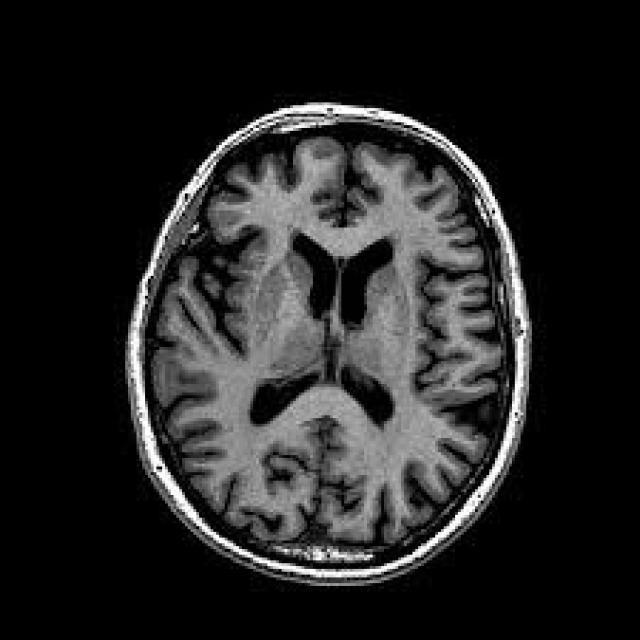No_Tumor: (126, 104, 531, 584)
